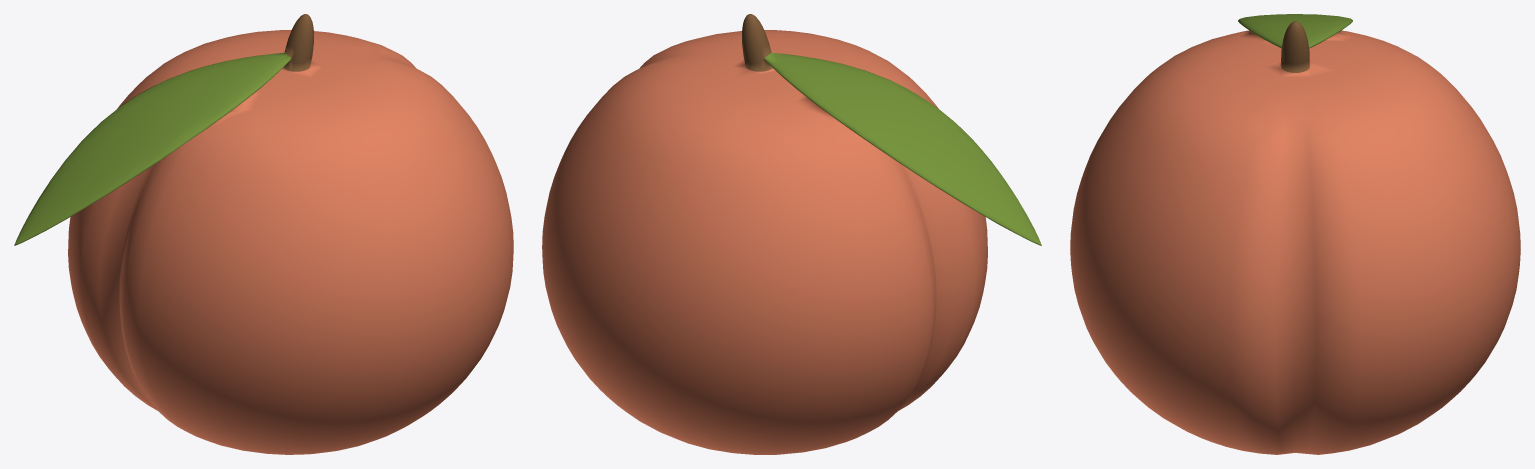
The picture shows the model from 3 angles, left to right: view 1: azimuth 30°, elevation 25°; view 2: azimuth 150°, elevation 25°; view 3: azimuth 270°, elevation 25°; orthographic projection.
Parts seen in each view (by area): view 1: NEW301_Peach_LOD1; view 2: NEW301_Peach_LOD1; view 3: NEW301_Peach_LOD1.
Boxes of the visible parts, x1,y1,x2,y2 form: NEW301_Peach_LOD1: (14, 14, 513, 454); NEW301_Peach_LOD1: (542, 14, 1041, 454); NEW301_Peach_LOD1: (1070, 14, 1520, 454).
Size of the model in its own units: 0.094 by 0.0785 by 0.0782.
